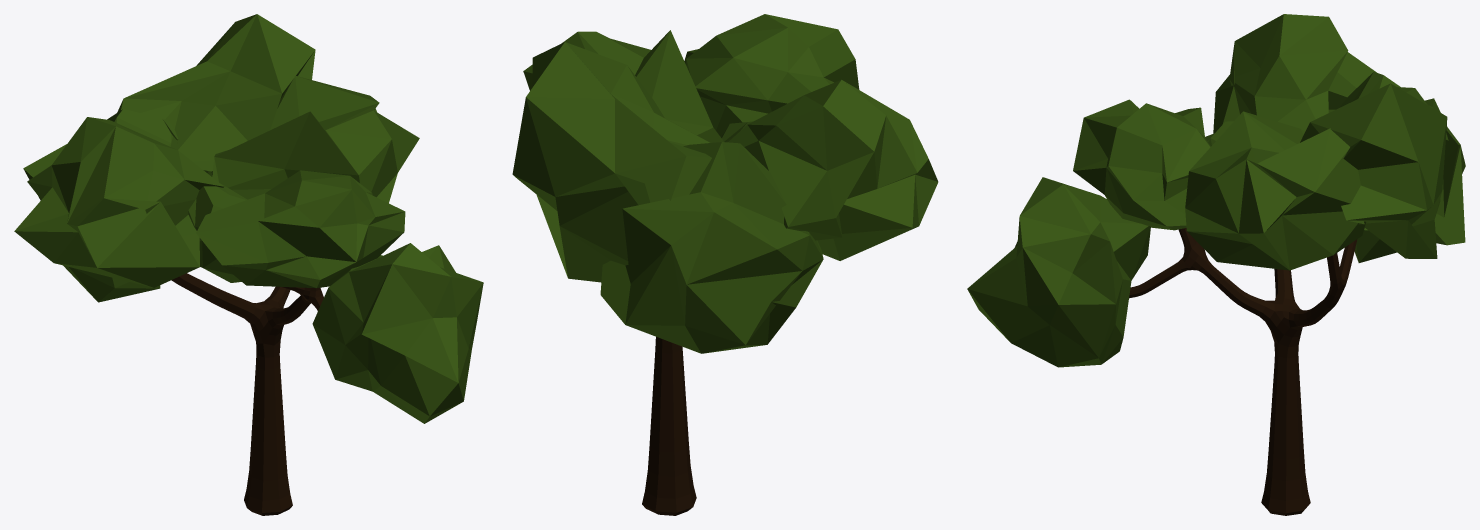
File: SM_NiceTree.fbx
3 views of the same model, side by side, from view 1: azimuth 30°, elevation 25°; view 2: azimuth 150°, elevation 25°; view 3: azimuth 270°, elevation 25° (orthographic). The views are drawn at different scales.
Visible parts, largest first — view 1: Leaves.001, Tree; view 2: Leaves.001, Tree; view 3: Leaves.001, Tree.
Part boxes in pixels (x1,y1,x2,y2): Leaves.001: [14, 14, 483, 423]; Tree: [171, 273, 323, 515]; Leaves.001: [512, 14, 938, 353]; Tree: [642, 337, 696, 515]; Leaves.001: [967, 14, 1465, 367]; Tree: [1129, 228, 1357, 515].
Size of the model in its own units: 1061 by 1204 by 1219.
